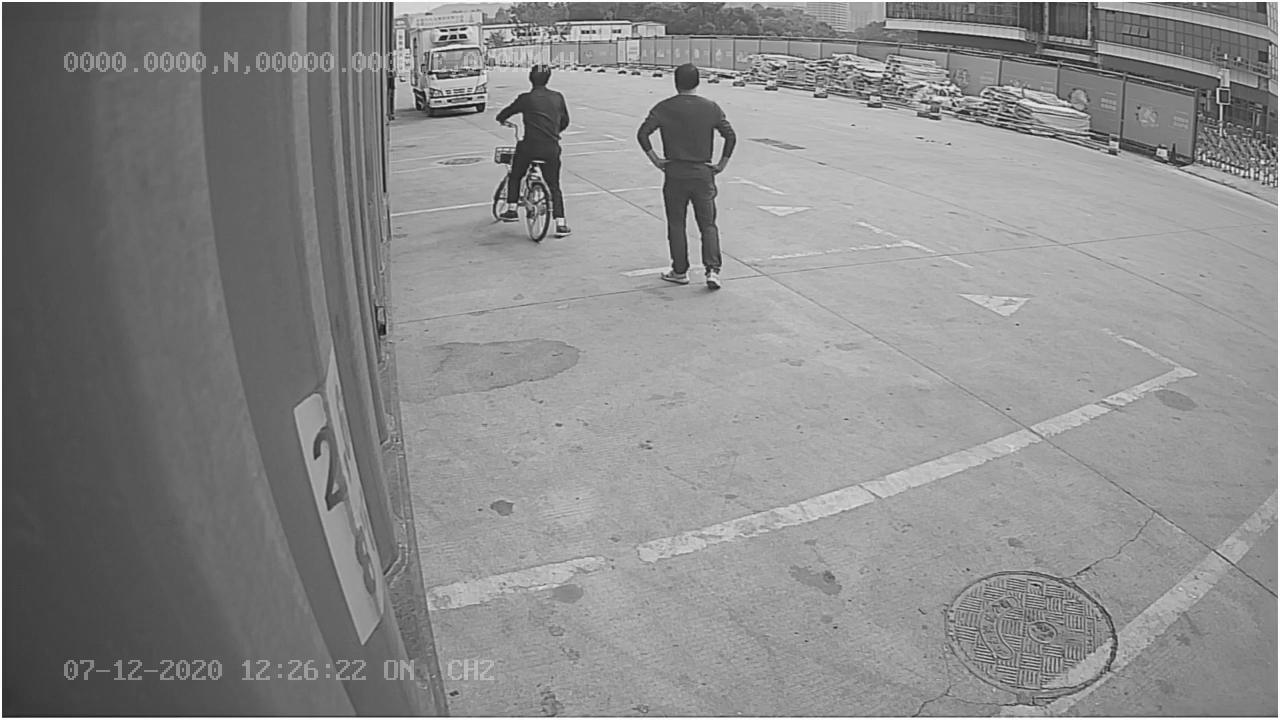person: (633, 62, 746, 295)
